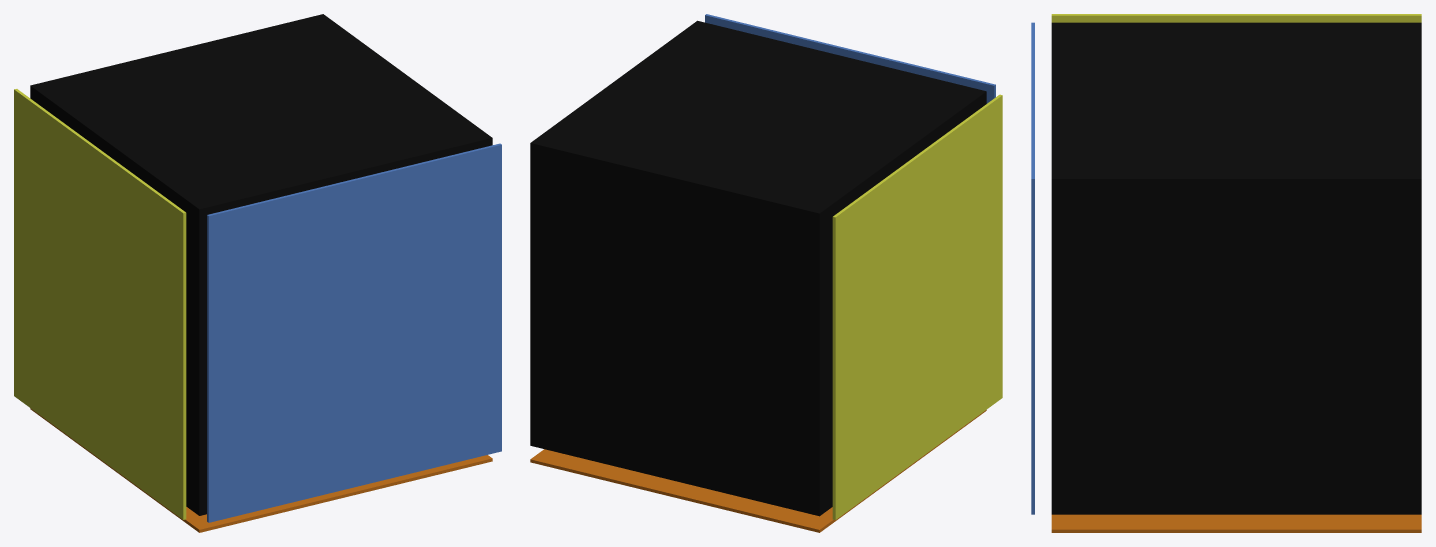
The model's file is yob.glb.
3 views of the same model, side by side, from view 1: azimuth 30°, elevation 25°; view 2: azimuth 150°, elevation 25°; view 3: azimuth 270°, elevation 25° (orthographic). The views are drawn at different scales.
Parts seen in each view (by area): view 1: blue-3, Cube, yellow-1, red-3; view 2: Cube, yellow-1, red-3, blue-3; view 3: Cube, red-3, yellow-1, blue-3.
Part boxes in pixels (x1,y1,x2,y2): blue-3: (207, 143, 501, 522); Cube: (30, 14, 492, 515); yellow-1: (14, 89, 186, 519); red-3: (30, 408, 492, 532); Cube: (530, 20, 986, 516); yellow-1: (832, 94, 1002, 519); red-3: (530, 410, 986, 532); blue-3: (705, 14, 995, 103); Cube: (1051, 22, 1421, 514); red-3: (1051, 514, 1421, 532); yellow-1: (1051, 14, 1421, 22); blue-3: (1031, 22, 1034, 514).
Bounding box in the file's own units: 2.11 × 2.11 × 2.11.
